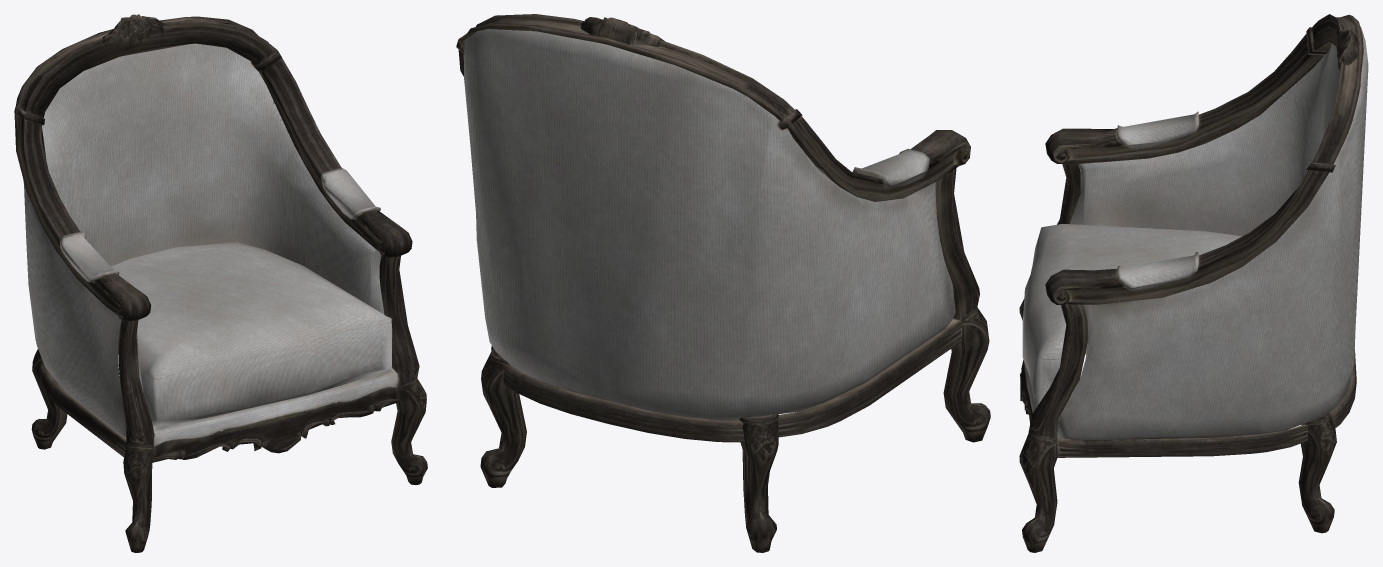
3 renders of one model, left to right at view 1: azimuth 30°, elevation 25°; view 2: azimuth 150°, elevation 25°; view 3: azimuth 270°, elevation 25°, orthographic. The views are drawn at different scales.
Visible parts, largest first — view 1: ArmChair_01; view 2: ArmChair_01; view 3: ArmChair_01.
Boxes of the visible parts, x1,y1,x2,y2 form: ArmChair_01: (14, 14, 427, 552); ArmChair_01: (456, 14, 990, 552); ArmChair_01: (1019, 14, 1368, 552).
Size of the model in its own units: 0.8482 by 1.06 by 0.7658.
Materials: 1 (1 with a texture image).
